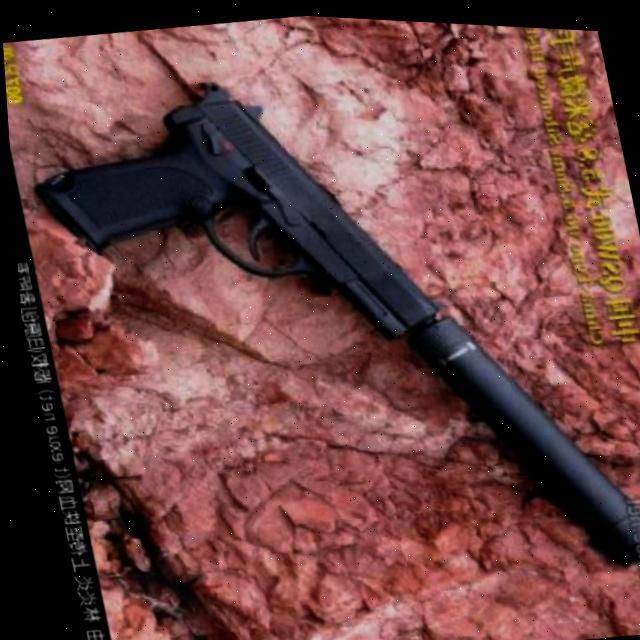gun: (12, 43, 467, 389)
